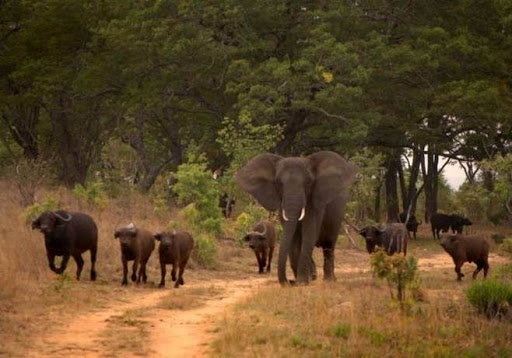buffalo: (63, 245, 133, 321), (464, 253, 512, 309), (134, 254, 178, 313), (385, 242, 444, 280), (175, 258, 215, 314), (260, 246, 300, 297)
elephant: (294, 218, 413, 354)
